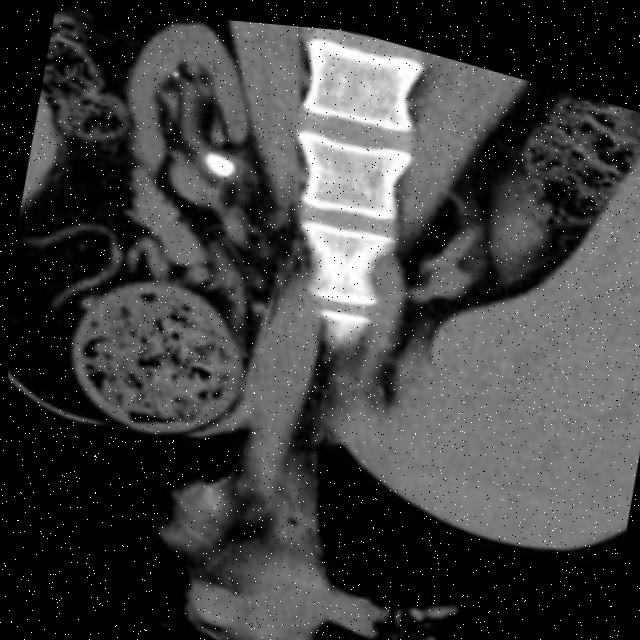Tas_Var: (194, 137, 240, 188), (166, 64, 182, 79)
